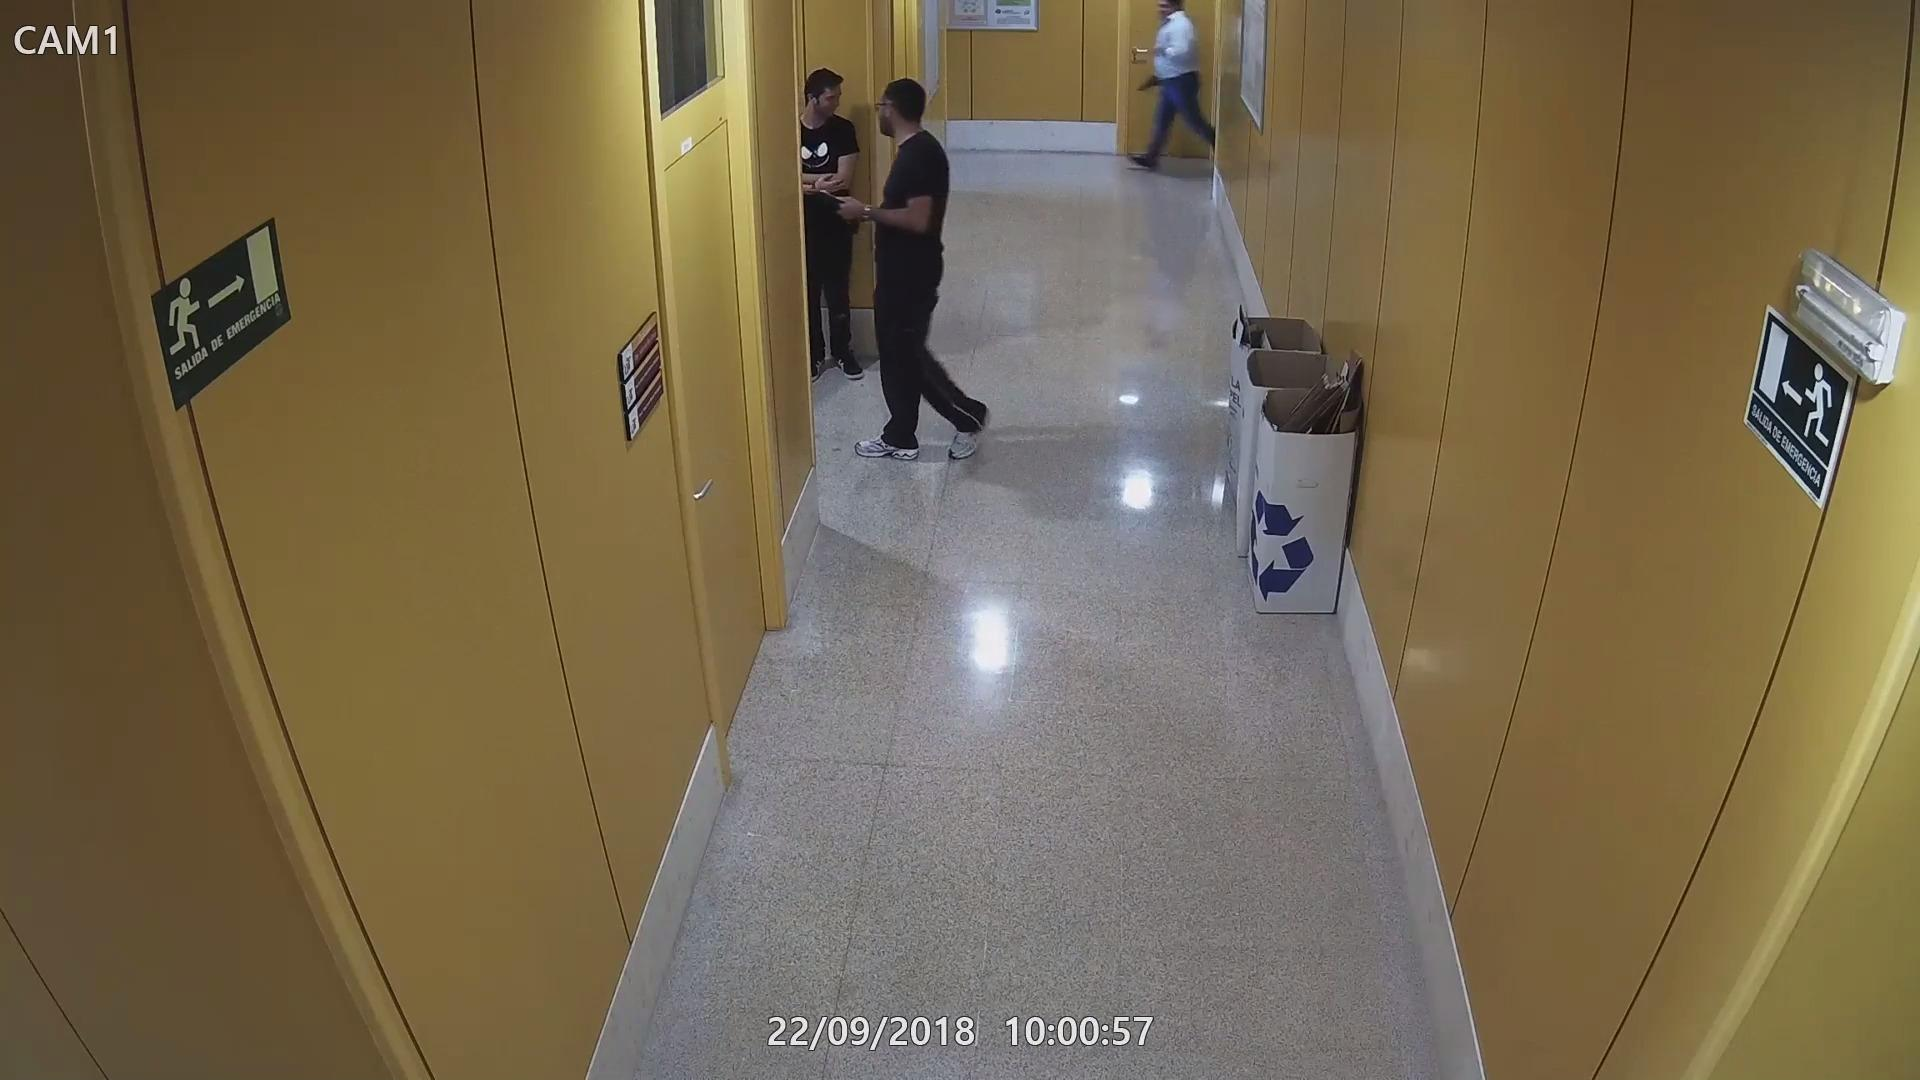Handgun: (1135, 69, 1164, 94)
